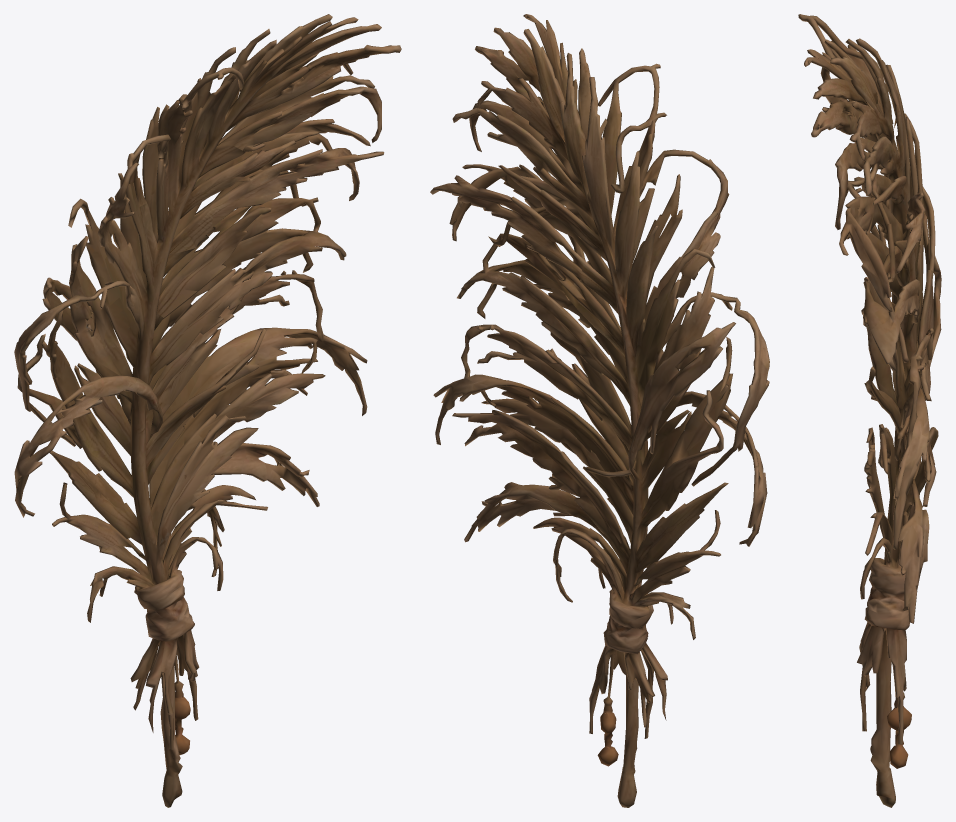
Rendered from um_elsaaf_saaf.fbx.
The picture shows the model from 3 angles, left to right: view 1: azimuth 30°, elevation 25°; view 2: azimuth 150°, elevation 25°; view 3: azimuth 270°, elevation 25°; orthographic projection. The views are drawn at different scales.
Parts seen in each view (by area): view 1: um_elsaaf_saaf; view 2: um_elsaaf_saaf; view 3: um_elsaaf_saaf.
Boxes of the visible parts, x1=… form: um_elsaaf_saaf: x1=14, y1=14, x2=401, y2=807; um_elsaaf_saaf: x1=430, y1=14, x2=769, y2=807; um_elsaaf_saaf: x1=798, y1=14, x2=941, y2=807.
Size of the model in its own units: 46.37 by 97.89 by 15.47.
1 material, 1 textured.
